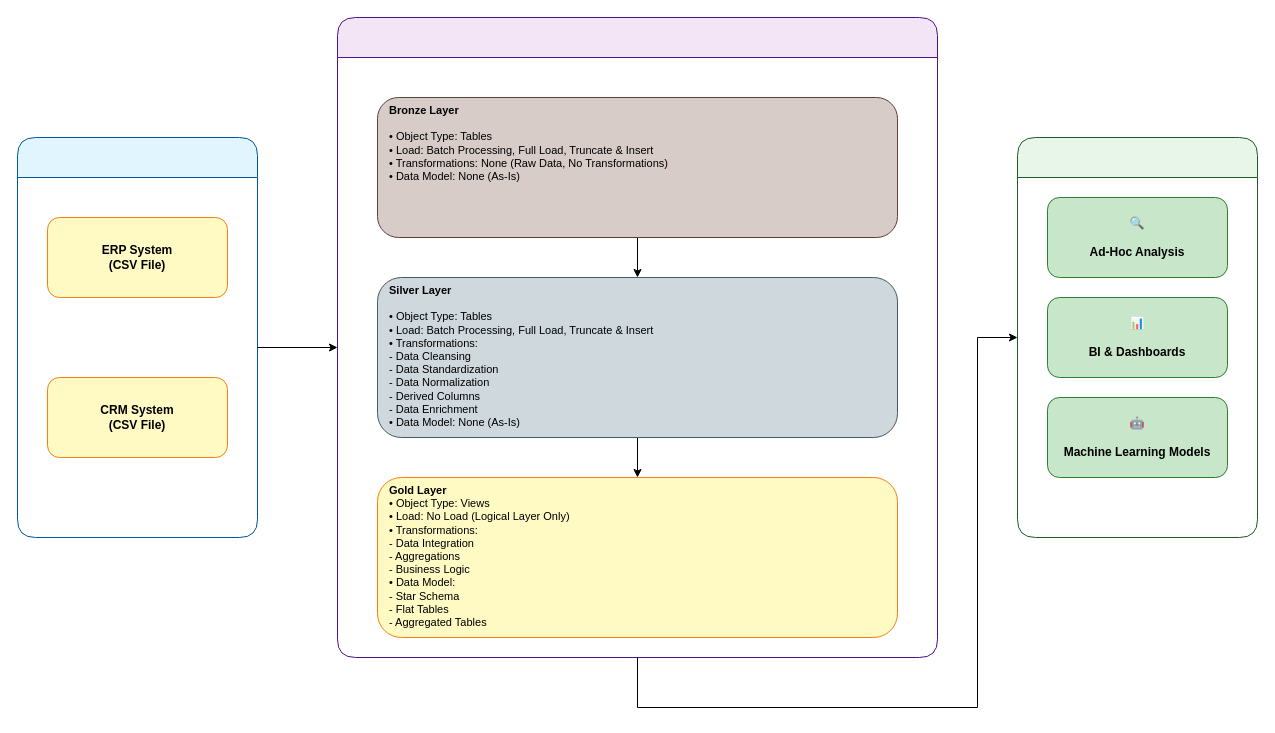
This 1275x733 diagram has some shape labels left out. The shapes that lost their labels are listed below. From the top down, each one's box as (x1, y1, x2, y2) in pixels, then its label:
(16, 136, 258, 538): Source Systems
(336, 16, 938, 658): Modern Data Warehouse – SQL Server
(1016, 136, 1258, 538): Consumption Layer
